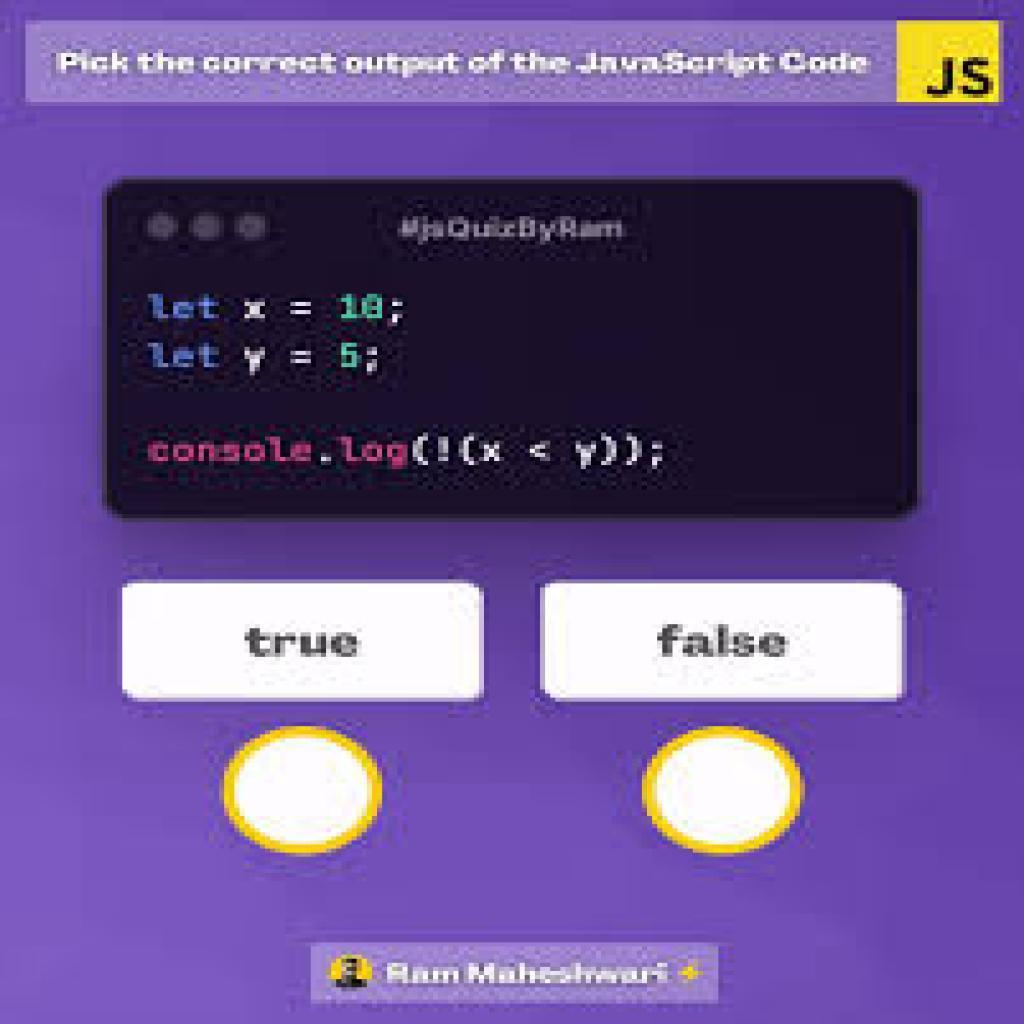button: (121, 577, 487, 704), (546, 583, 905, 702)
radio: (217, 726, 390, 862), (641, 728, 807, 861)
